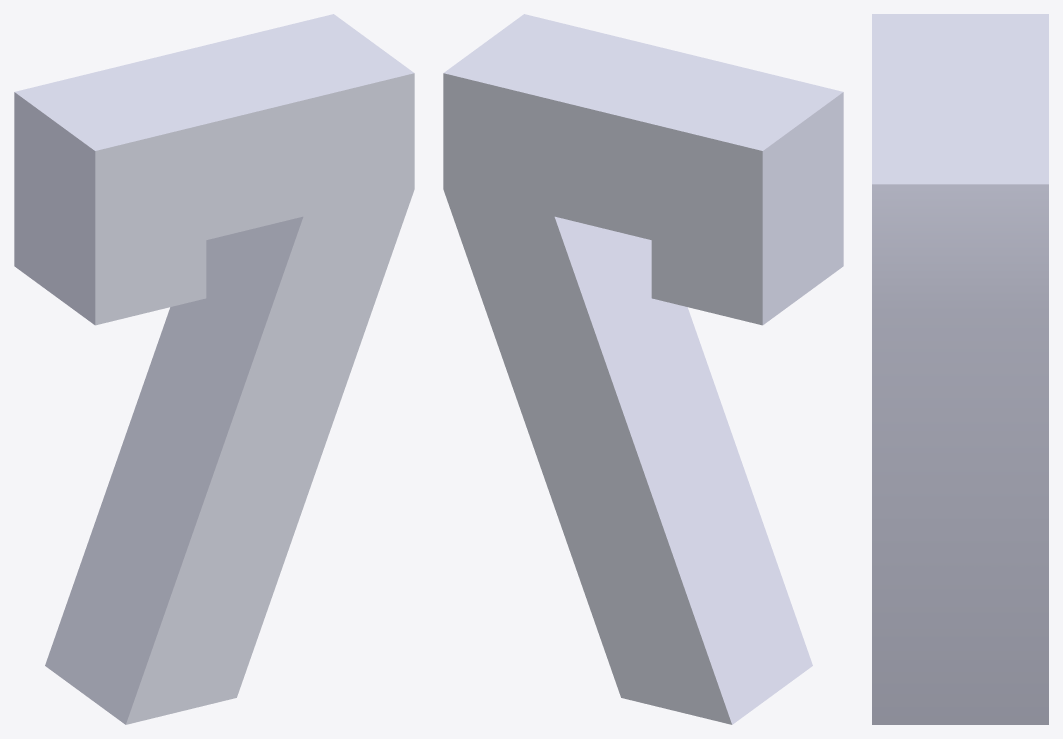
The model's file is 4319ba18-9b4b-449d-9b79-ef8b04dbc4af.glb.
3 views of the same model, side by side, from view 1: azimuth 30°, elevation 25°; view 2: azimuth 150°, elevation 25°; view 3: azimuth 270°, elevation 25° (orthographic). The views are drawn at different scales.
Parts seen in each view (by area): view 1: 7_DeltaBlock_Grey; view 2: 7_DeltaBlock_Grey; view 3: 7_DeltaBlock_Grey.
Part boxes in pixels (x1=…): 7_DeltaBlock_Grey: x1=14, y1=14, x2=414, y2=724; 7_DeltaBlock_Grey: x1=443, y1=14, x2=843, y2=724; 7_DeltaBlock_Grey: x1=872, y1=14, x2=1048, y2=724.
Size of what is drawn, in the model's own units: 0.1027 by 0.1786 by 0.045.
2 materials, 2 textured.
